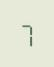seven: (19, 20, 33, 46)
